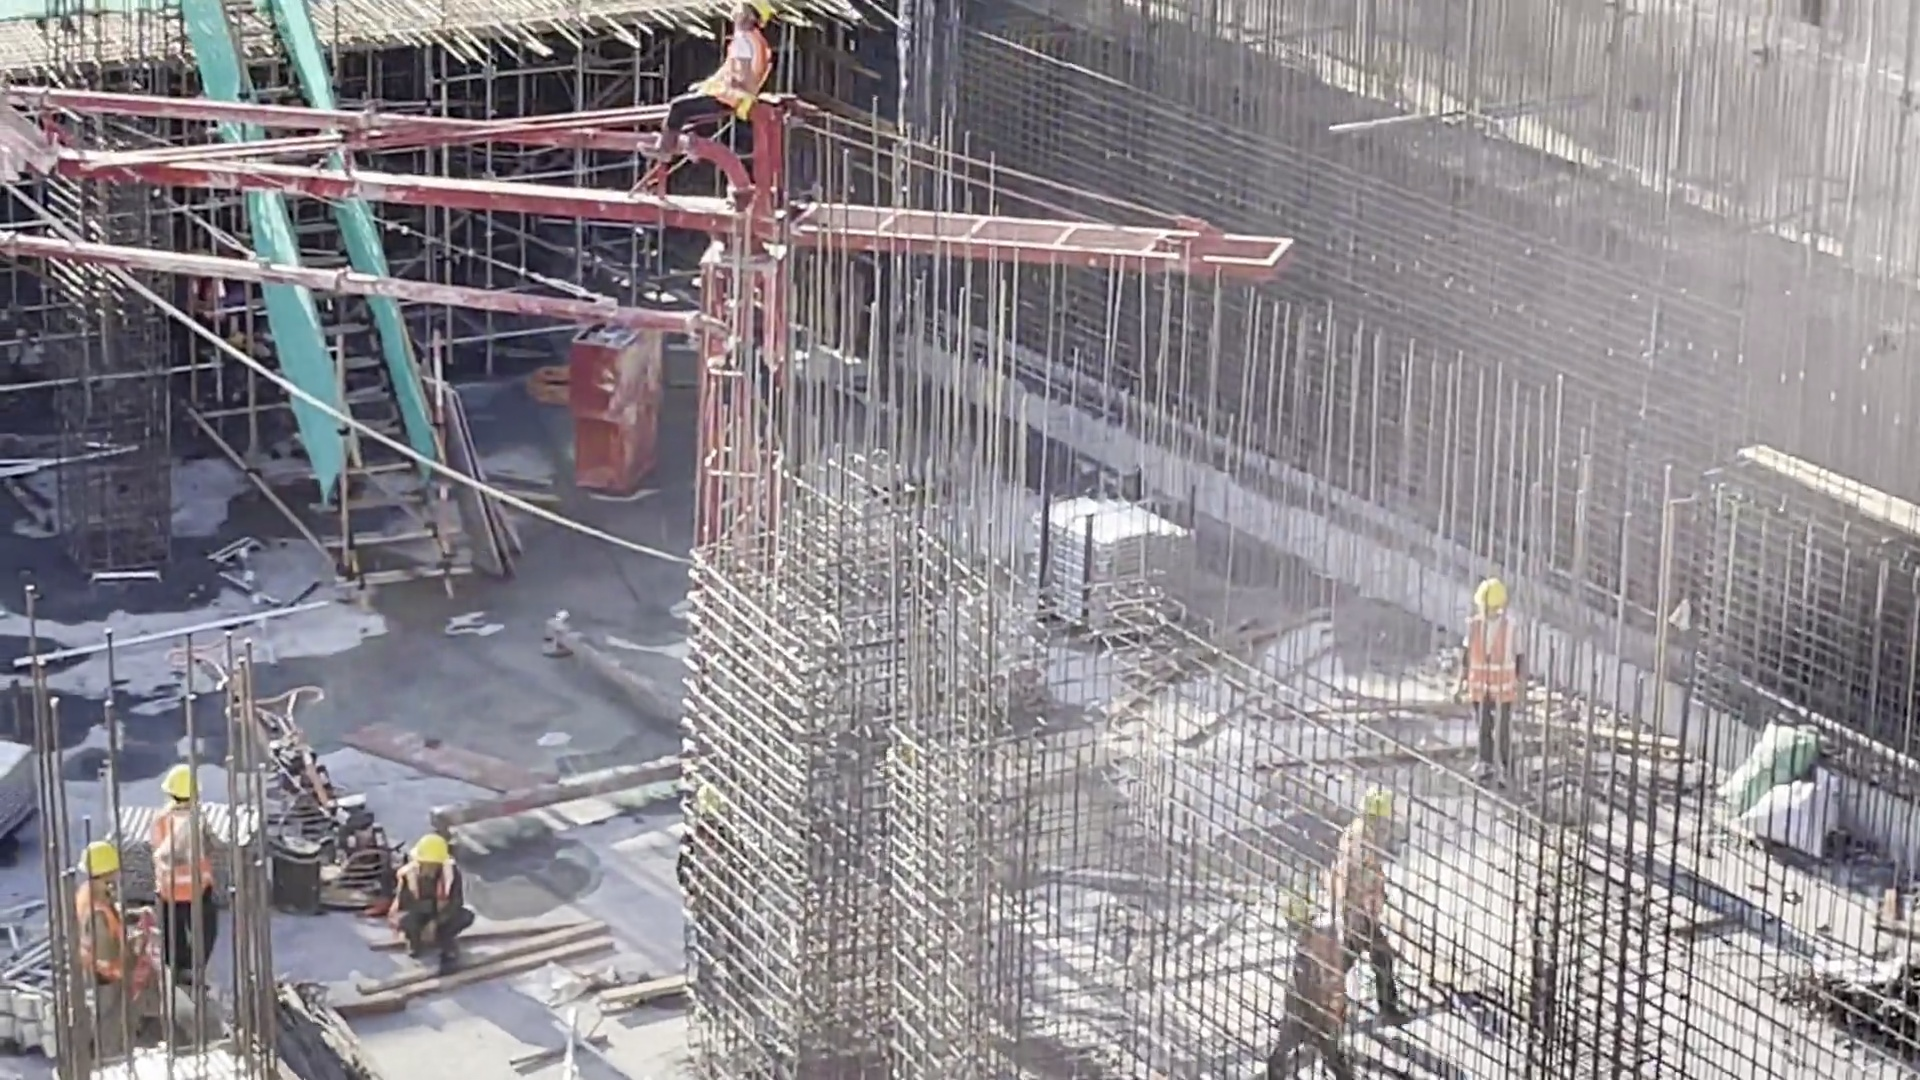helmet: (78, 845, 130, 882), (1291, 890, 1329, 935), (164, 765, 206, 804), (411, 834, 459, 867), (1467, 580, 1508, 612), (1369, 786, 1401, 824), (752, 1, 774, 22)
person: (1458, 582, 1567, 794), (1332, 774, 1415, 1028), (653, 1, 774, 165), (78, 848, 171, 1058), (145, 763, 228, 997), (380, 832, 491, 987), (1273, 890, 1364, 1075)
scaffold: (1035, 490, 1196, 643), (2, 919, 101, 1050), (1, 738, 62, 832)
vest: (1331, 822, 1399, 932), (1287, 932, 1356, 1031), (66, 887, 134, 987), (386, 868, 479, 934), (142, 816, 220, 893), (1466, 617, 1522, 713)
